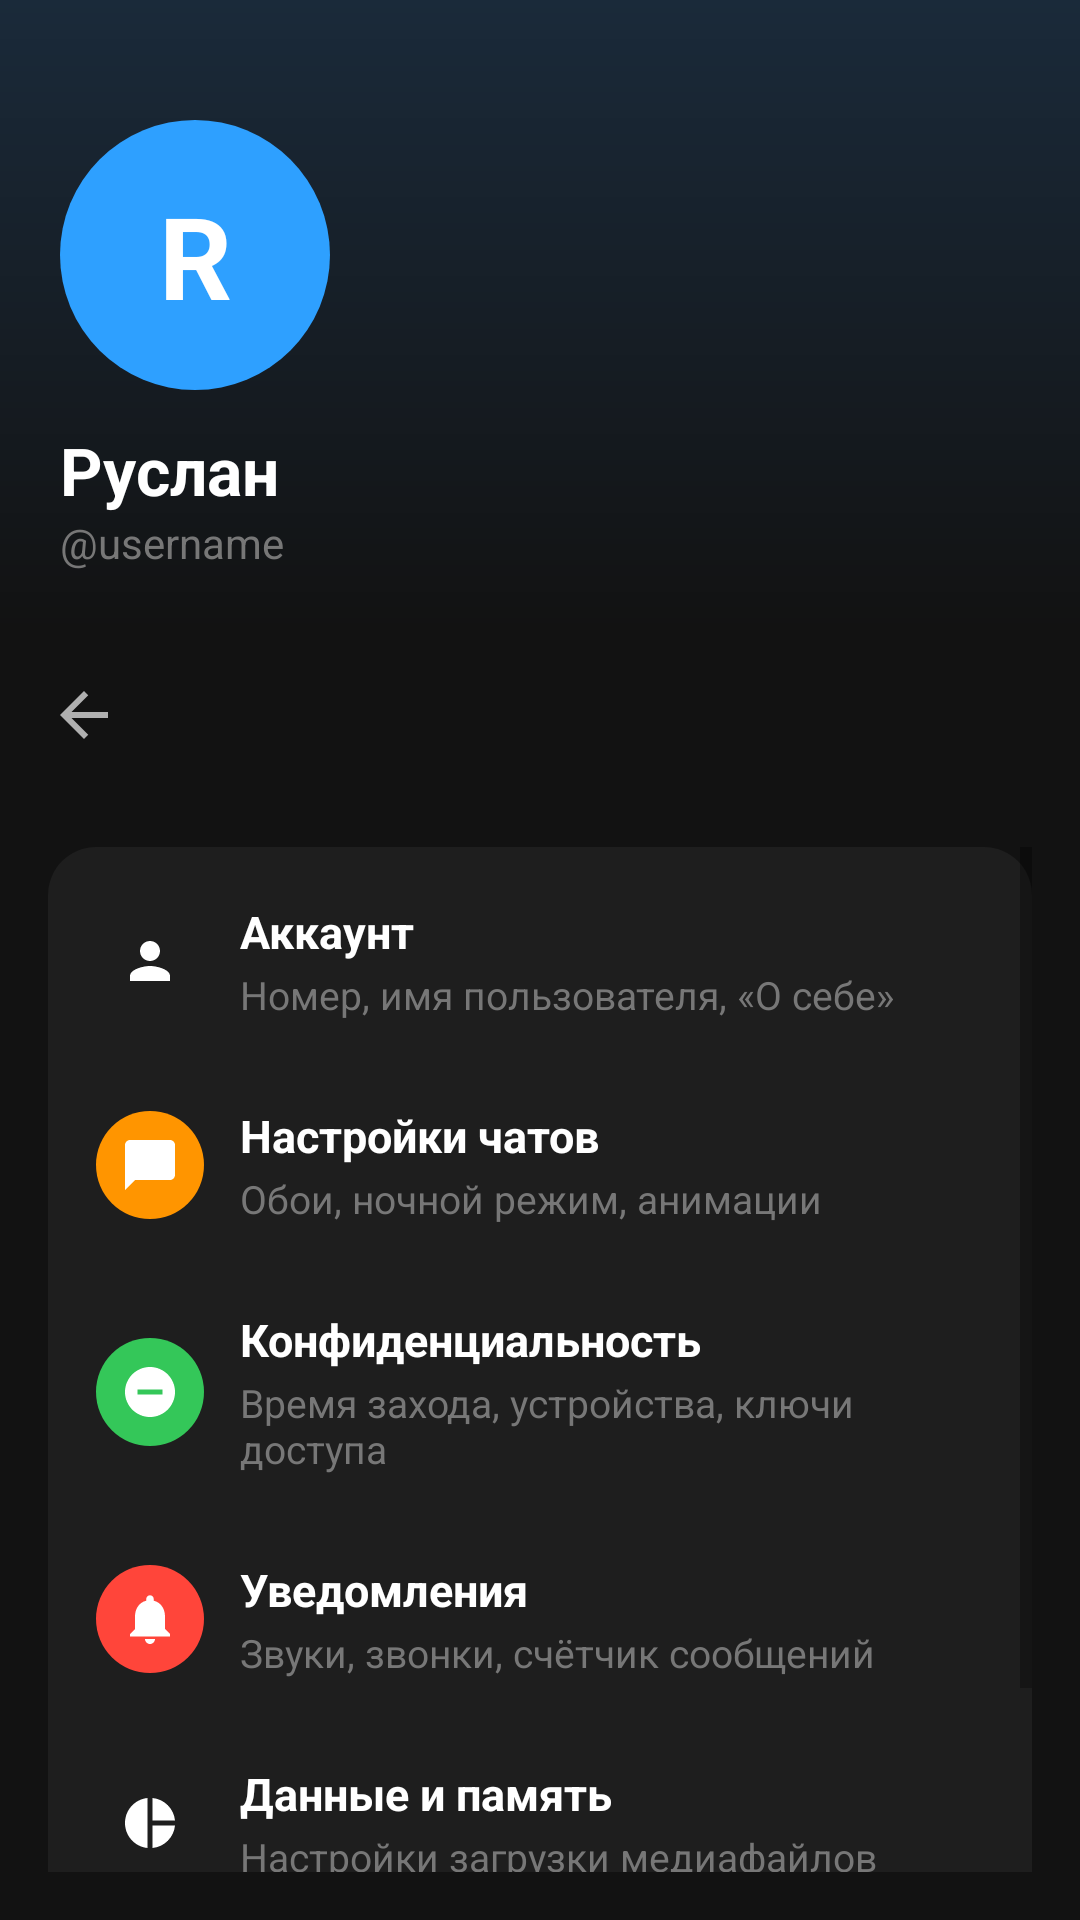

Screen size 1080w x 1920h. Icon name, then its center in pixels as [x,y]:
arrow back: [84,715]
chat: [150,1165]
data: [150,1823]
notifications: [150,1619]
profile: [150,961]
